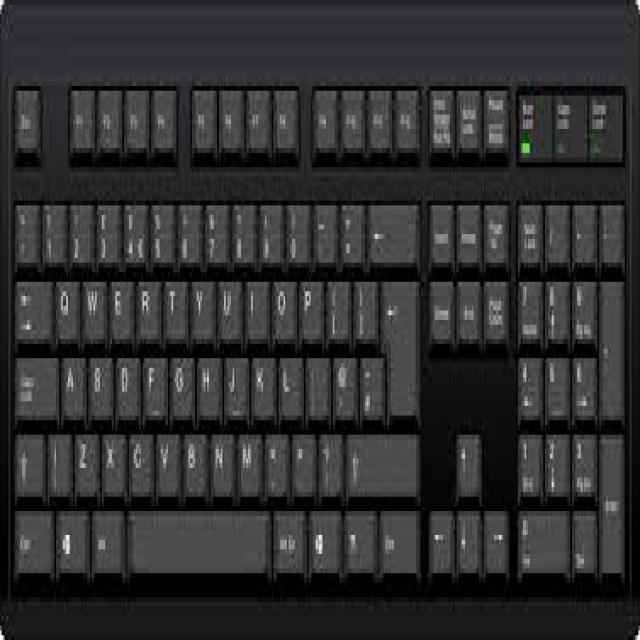others: (1, 4, 640, 635)
